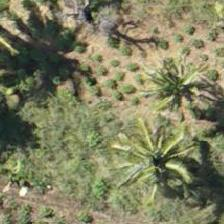coconut_tree: (112, 107, 202, 197), (128, 41, 218, 131)
